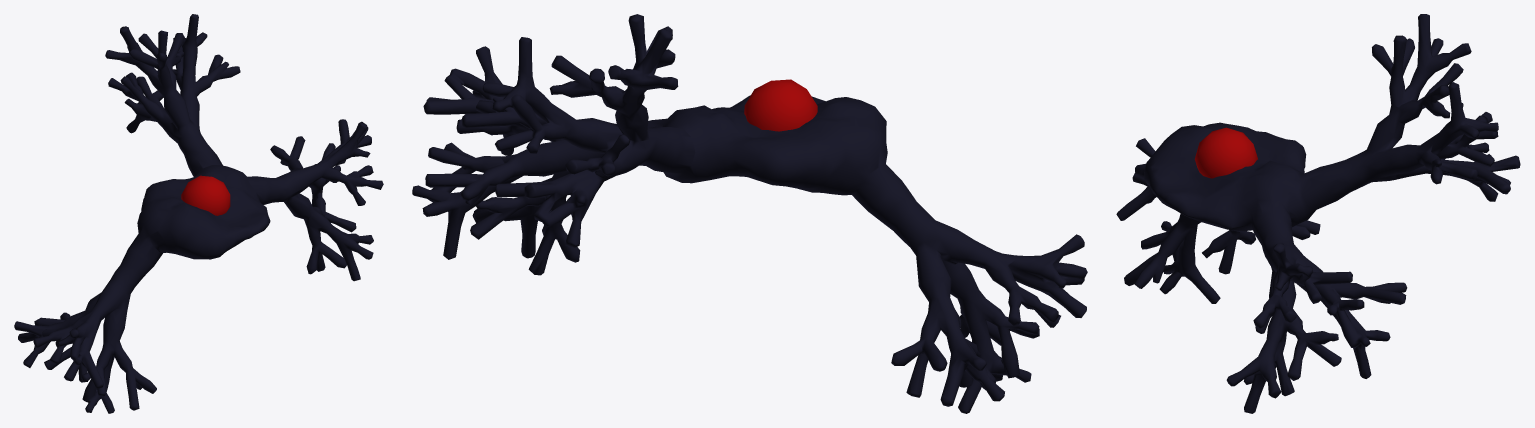
File: start_end_3.fbx
3 renders of one model, left to right at view 1: azimuth 30°, elevation 25°; view 2: azimuth 150°, elevation 25°; view 3: azimuth 270°, elevation 25°, orthographic. The views are drawn at different scales.
Visible parts, largest first — view 1: material3; view 2: material3; view 3: material3.
Part boxes in pixels (bbox=[...]): material3: bbox=[14, 14, 383, 413]; material3: bbox=[412, 14, 1087, 413]; material3: bbox=[1116, 14, 1520, 413].
Size of the model in its own units: 9.98 by 7.28 by 7.38.
